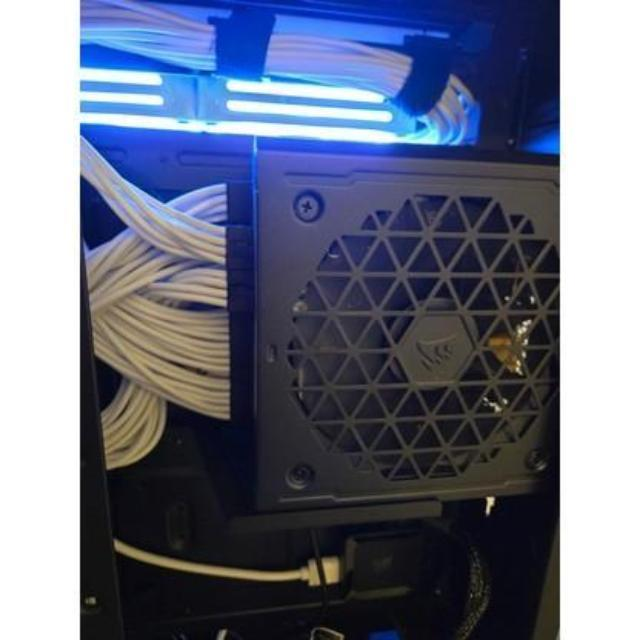PSU: (236, 133, 558, 518)
